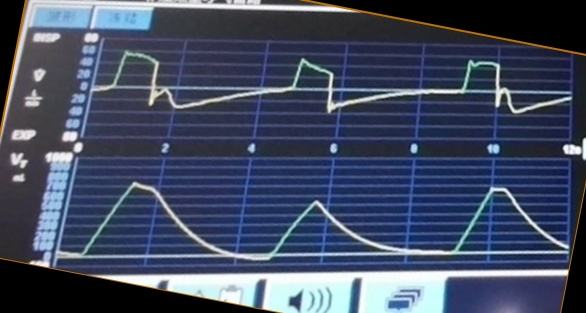Premature_cycling Flow: (101, 50, 558, 136)
Premature_cycling Volume: (75, 179, 565, 262)
